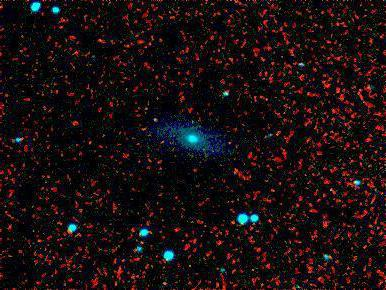star: (221, 155, 251, 185)
